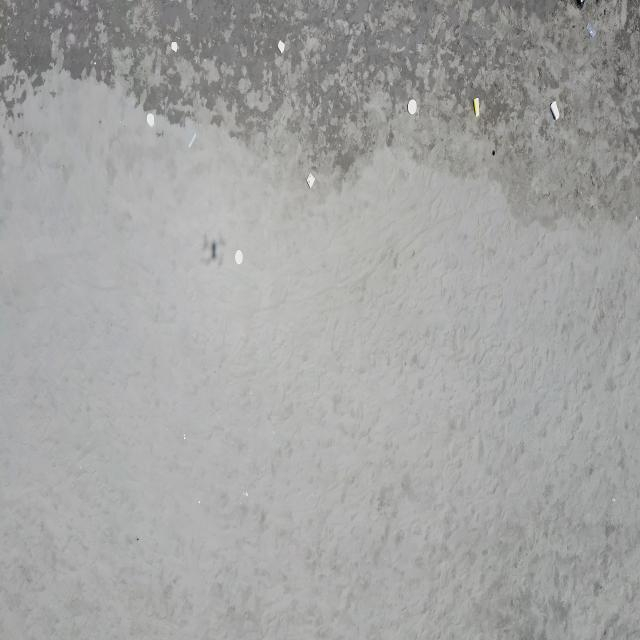take-away-containers: (306, 172, 316, 189), (407, 99, 417, 114), (147, 112, 155, 127), (235, 250, 243, 264), (278, 40, 285, 54), (171, 40, 178, 53)
takeaway-cup: (550, 100, 560, 121), (586, 22, 597, 39), (188, 132, 198, 149), (473, 98, 480, 117)
